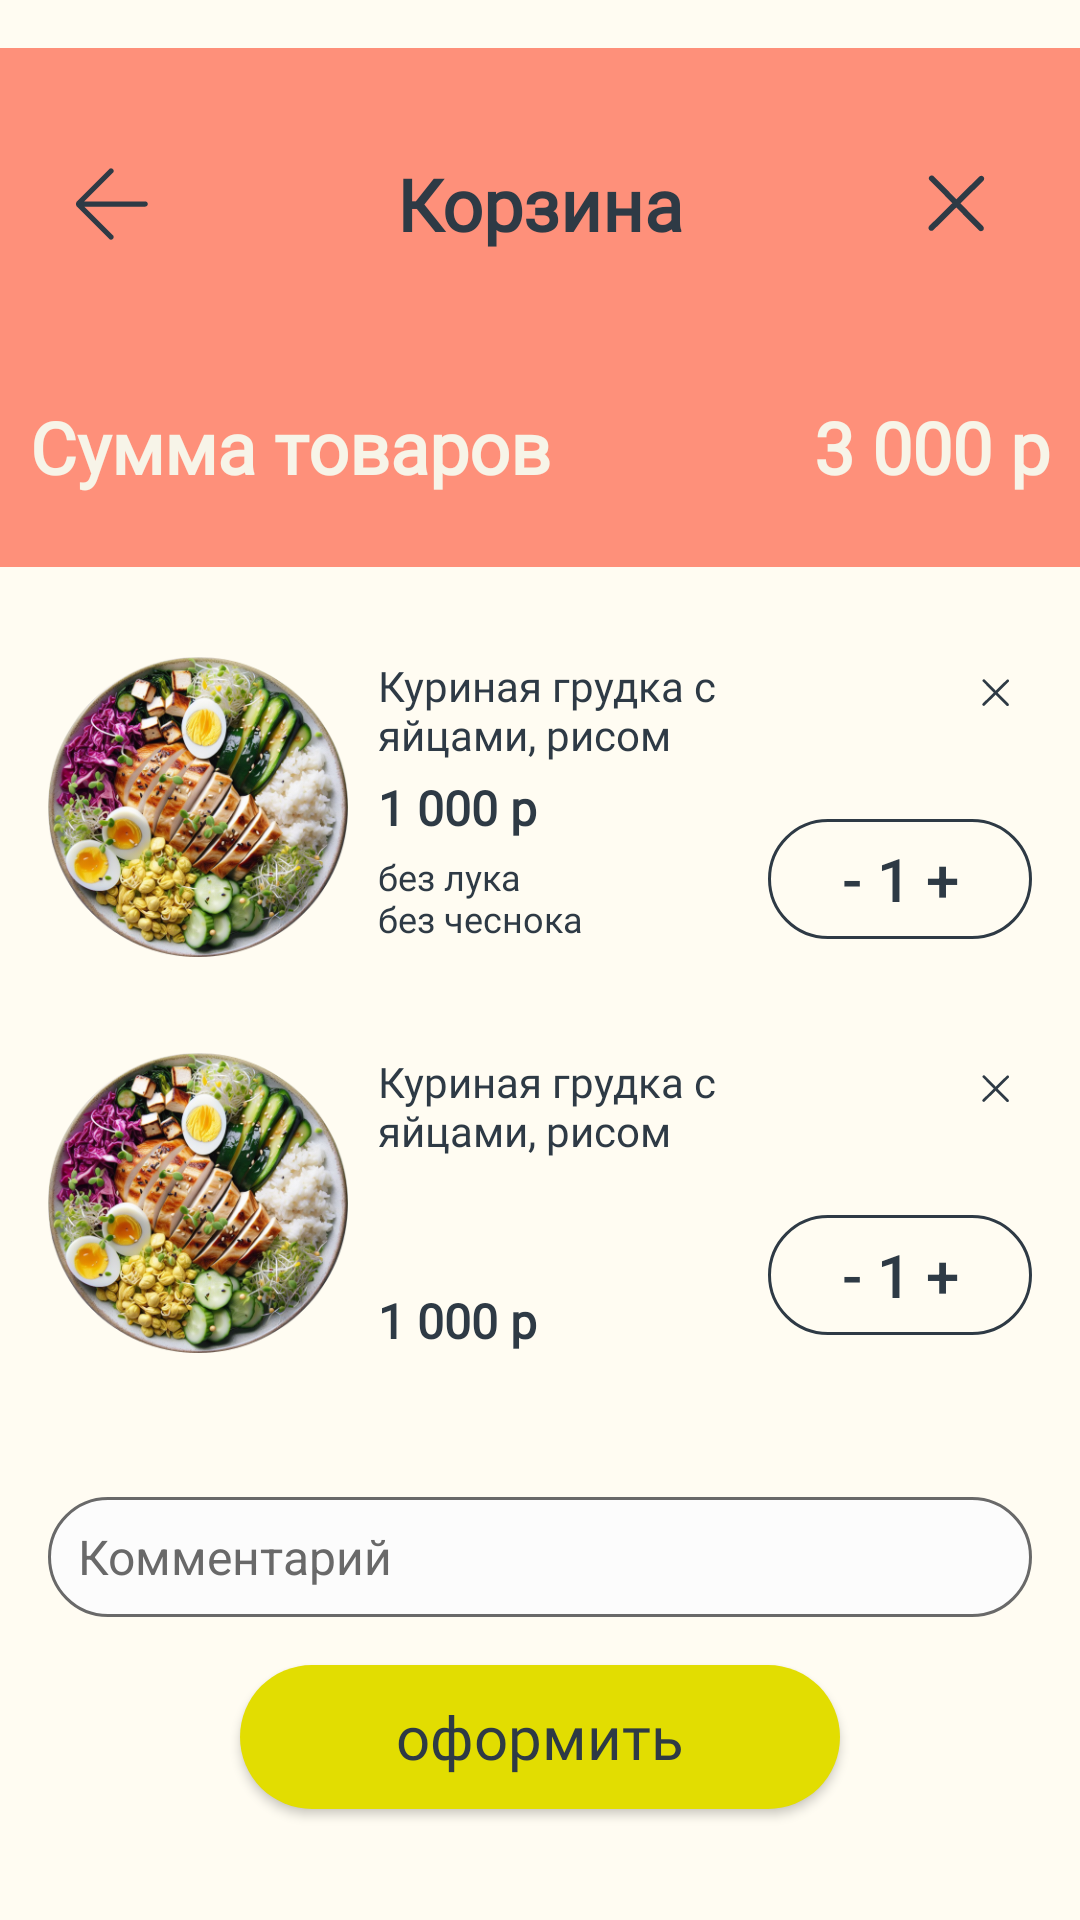

Screen size 1080 × 1920. Icon name, then its box in pixels as (x1=x1, y1=y1, x2=x2, y2=y2):
картинка блюда: (x1=48, y1=657, x2=348, y2=957), (x1=48, y1=1053, x2=348, y2=1353)
